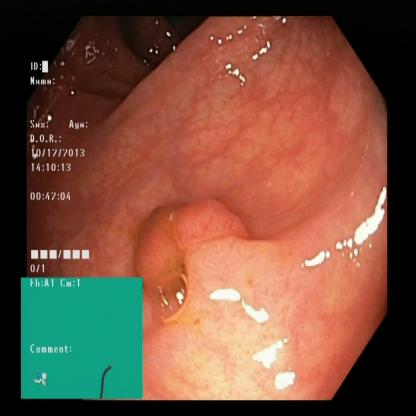Labels: (28, 56, 113, 281), (22, 278, 140, 401)
Polyps: (158, 210, 302, 345)
